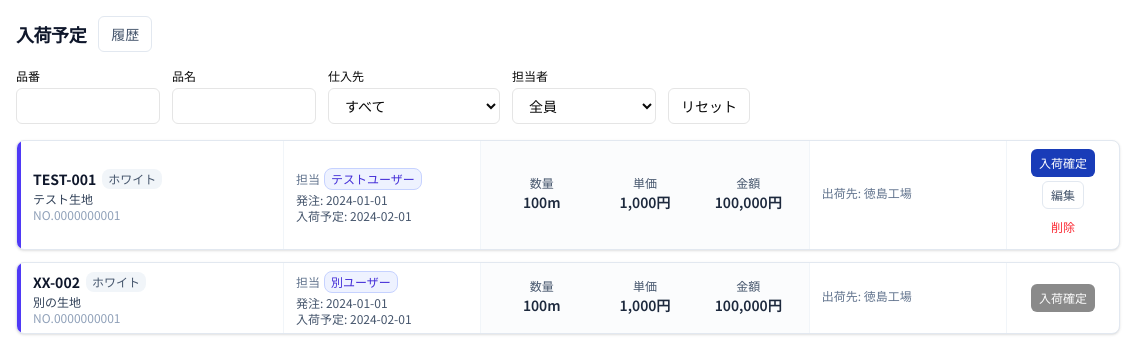
it: TokushimaFabricPurchaseOrderTable フィルター › 品名で絞り込める
The image size is (1137, 352).
Type "別の" into the field labelled "品名".
click(244, 106); type("別の")  # box [172,88,316,124]
Wait 300 ms
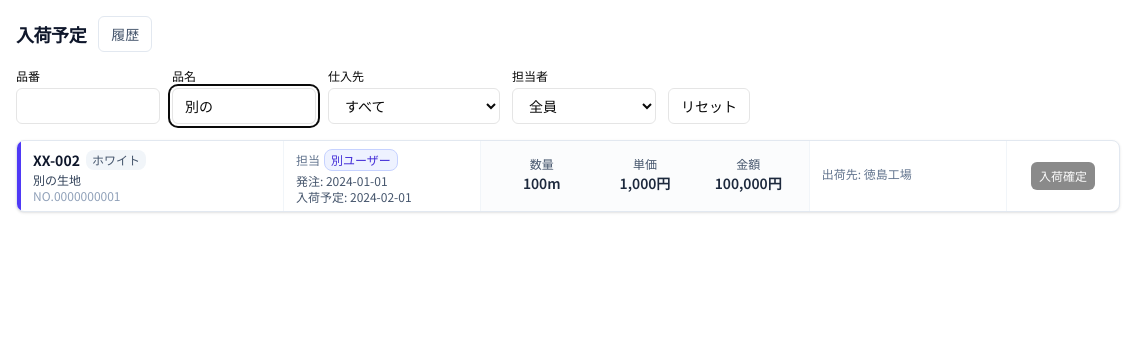
Check: the text "XX-002" is shown, box [33,153,80,167]
Check: the text "TEST-001" is gone
